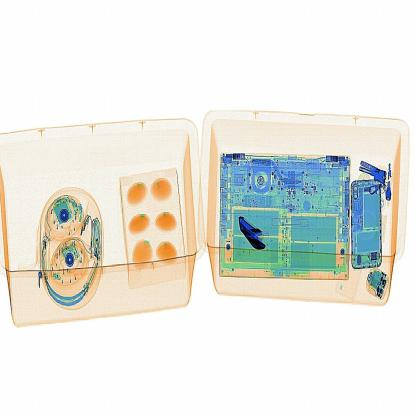pliers: (234, 211, 274, 263)
